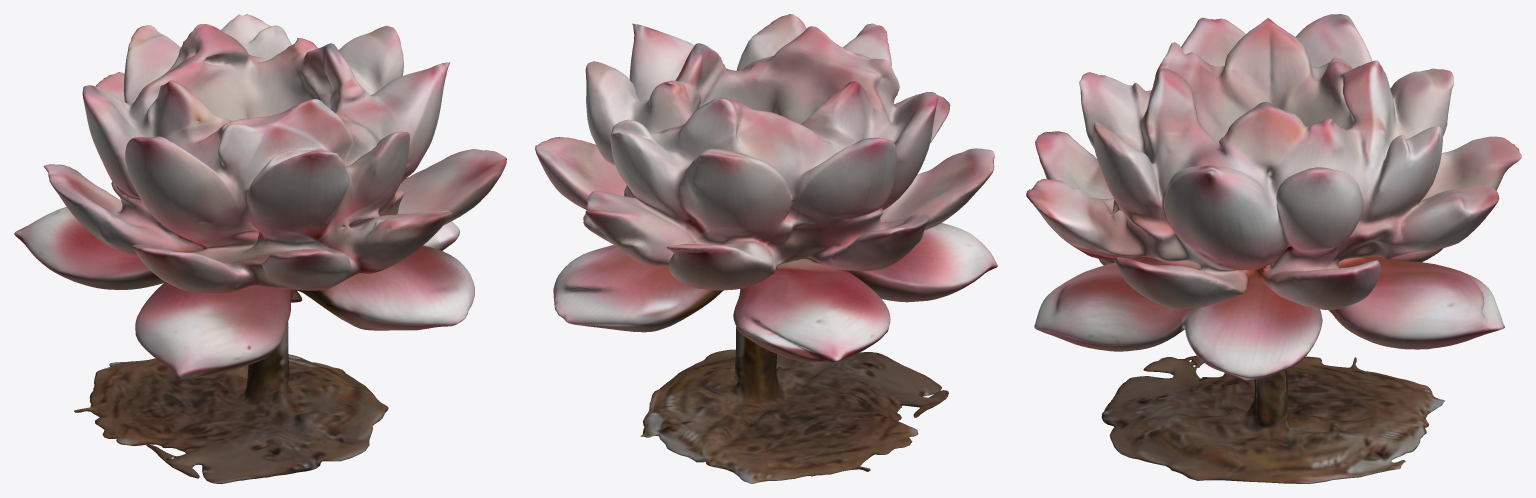
Rendered from lotus_flower_3d.glb.
3 views of the same model, side by side, from view 1: azimuth 30°, elevation 25°; view 2: azimuth 150°, elevation 25°; view 3: azimuth 270°, elevation 25° (orthographic). The views are drawn at different scales.
Visible parts, largest first — view 1: tripo_node_98ceb8e5-54d1-406b-affa-dd0414635d23; view 2: tripo_node_98ceb8e5-54d1-406b-affa-dd0414635d23; view 3: tripo_node_98ceb8e5-54d1-406b-affa-dd0414635d23.
Part boxes in pixels (x1,y1,x2,y2): tripo_node_98ceb8e5-54d1-406b-affa-dd0414635d23: (14, 14, 506, 483); tripo_node_98ceb8e5-54d1-406b-affa-dd0414635d23: (535, 14, 997, 483); tripo_node_98ceb8e5-54d1-406b-affa-dd0414635d23: (1026, 14, 1521, 483).
Bounding box in the file's own units: 0.6151 × 0.5544 × 0.6688.
1 material, 1 textured.
